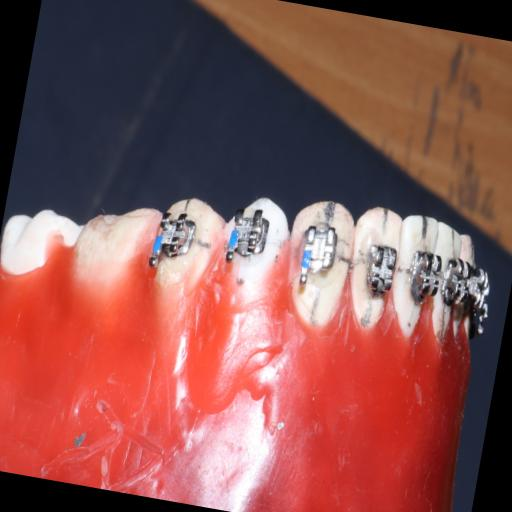incorrect_brace: (288, 218, 342, 300)
